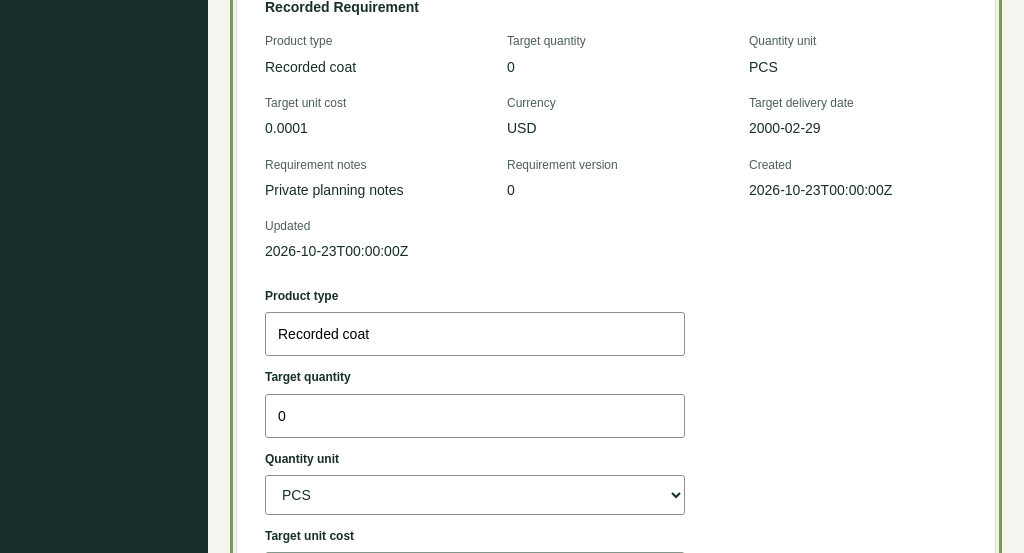
Test: 409 preserves update draft and requires explicit reconciliation with latest Requirement version
(page scrolled)
Replace the text in the field labelled "Product type" with "My revision" at (475, 334), box [265,312,685,356]
(page scrolled)
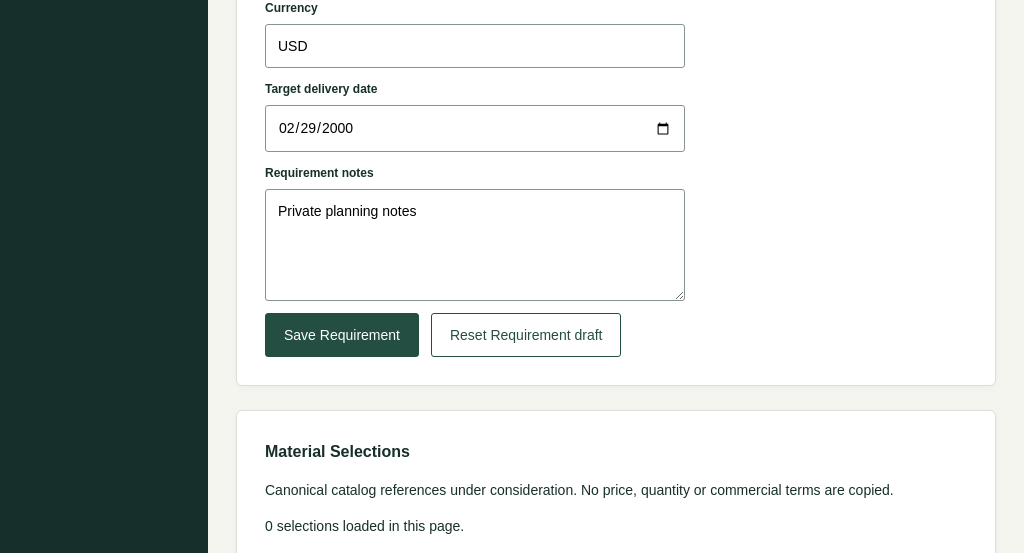
Click the button "Save Requirement" at (342, 335), box [265,313,419,357]
(page scrolled)
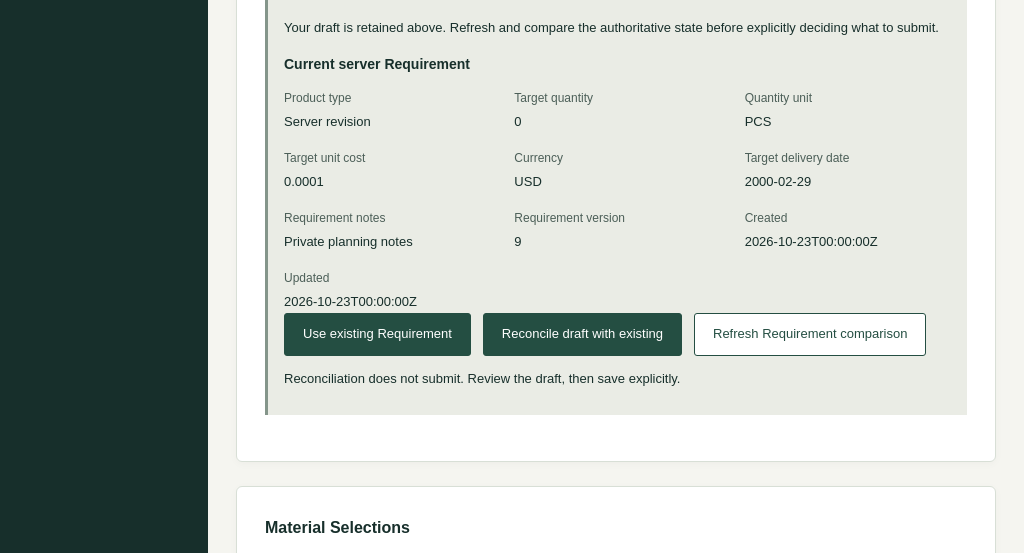
Now the element "Current server Requirement" is shown, box [284,53,951,313]
Click the button "Reconcile draft with existing" at (582, 334), box [483,313,682,356]
(page scrolled)
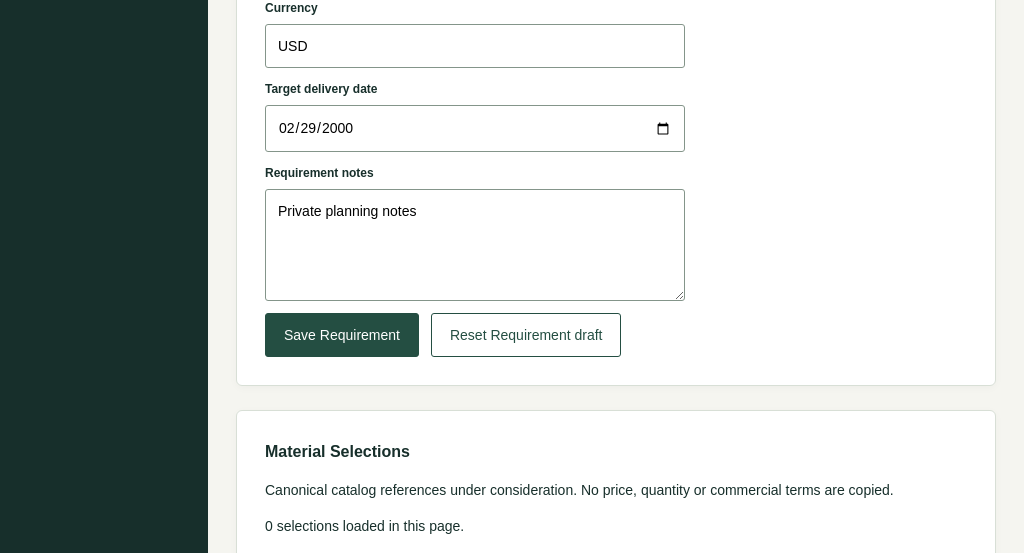
Click the button "Save Requirement" at (342, 335), box [265,313,419,357]
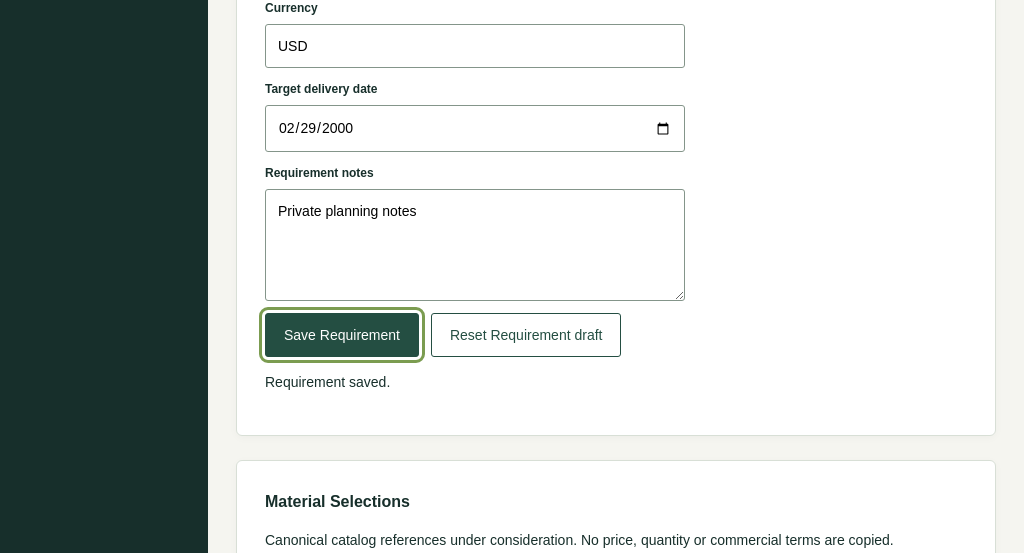
Now the text "Requirement saved." is shown, box [265,374,390,390]
